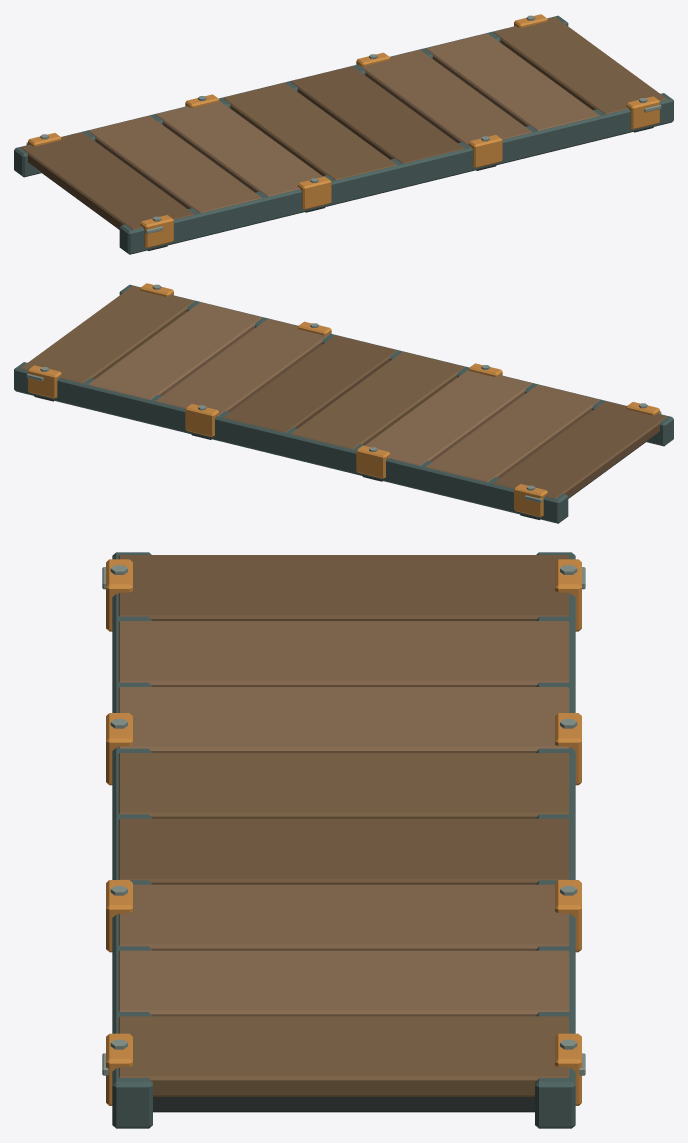
File: e1-first-cover-cradle.glb
The picture shows the model from 3 angles, top to bottom: view 1: azimuth 30°, elevation 25°; view 2: azimuth 150°, elevation 25°; view 3: azimuth 270°, elevation 25°; orthographic projection. The views are drawn at different scales.
Parts seen in each view (by area): view 1: E1CrateCradle; view 2: E1CrateCradle; view 3: E1CrateCradle.
Boxes of the visible parts, bbox=[...] form: E1CrateCradle: bbox=[14, 14, 673, 254]; E1CrateCradle: bbox=[14, 283, 673, 523]; E1CrateCradle: bbox=[102, 552, 585, 1128].
Bounding box in the file's own units: 3.64 × 0.1925 × 1.39.
